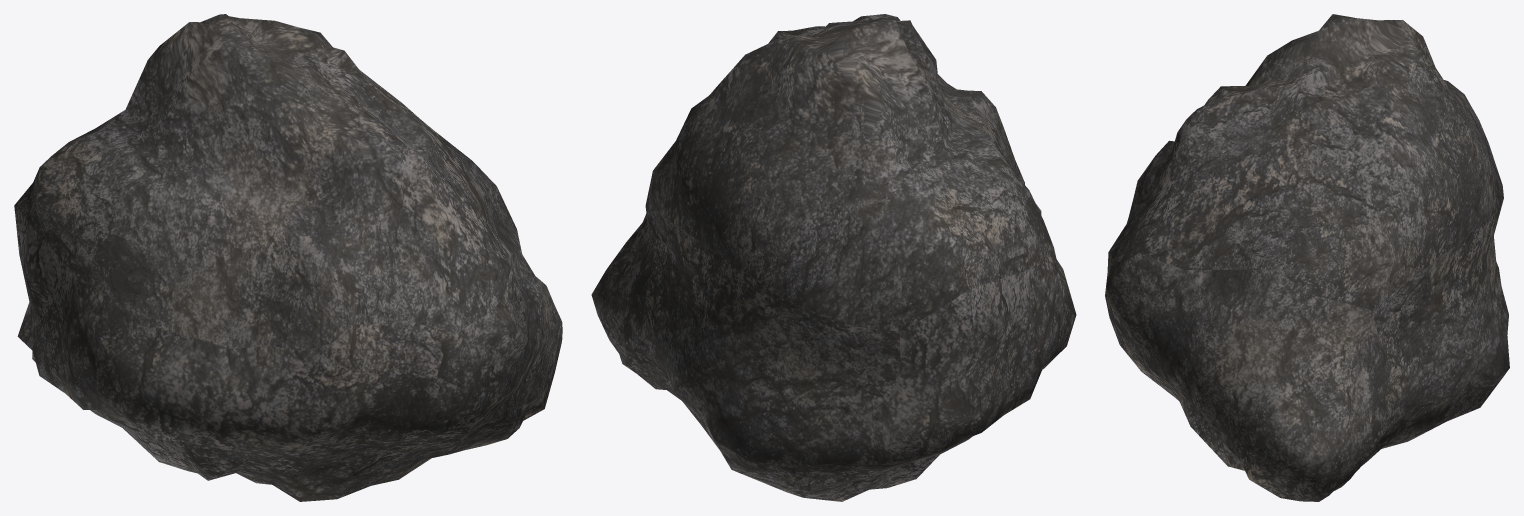
File: rock01.dae
3 renders of one model, left to right at view 1: azimuth 30°, elevation 25°; view 2: azimuth 150°, elevation 25°; view 3: azimuth 270°, elevation 25°, orthographic. The views are drawn at different scales.
Parts seen in each view (by area): view 1: Rock01; view 2: Rock01; view 3: Rock01.
Boxes of the visible parts, x1,y1,x2,y2 form: Rock01: [14, 14, 562, 501]; Rock01: [591, 14, 1076, 501]; Rock01: [1105, 14, 1509, 501].
Size of the model in its own units: 5928 by 5023 by 5572.
1 material, 1 textured.
